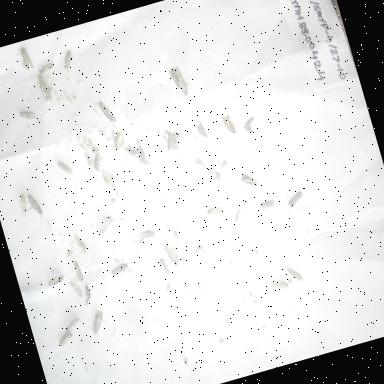pbw: (26, 188, 48, 220), (14, 101, 40, 128), (256, 188, 283, 214), (86, 308, 109, 338), (107, 128, 133, 154), (280, 258, 304, 286), (240, 112, 263, 141), (15, 45, 38, 74), (49, 156, 75, 181), (77, 280, 97, 312), (56, 49, 78, 78), (236, 168, 261, 193), (281, 189, 308, 211), (93, 212, 117, 236), (69, 232, 91, 258), (163, 242, 183, 270), (44, 266, 68, 289), (190, 118, 212, 143), (54, 328, 78, 350), (60, 314, 84, 336), (88, 148, 108, 174), (108, 259, 134, 279), (164, 66, 182, 94), (228, 201, 248, 226), (68, 255, 86, 282), (162, 127, 180, 153), (155, 252, 172, 278), (221, 112, 238, 138), (268, 276, 292, 294), (134, 225, 156, 243), (203, 202, 226, 219), (15, 190, 30, 216), (37, 57, 55, 77), (68, 278, 83, 300), (172, 61, 186, 84), (178, 76, 192, 98), (36, 74, 49, 97)
